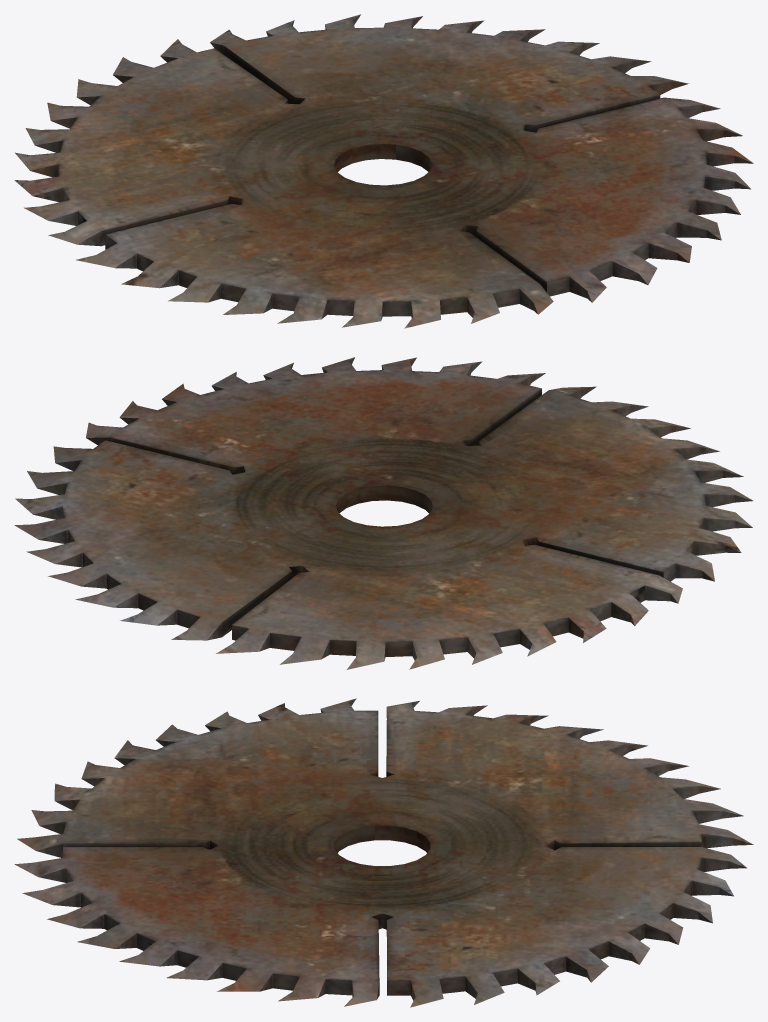
The model's file is sawblade001a.glb.
The picture shows the model from 3 angles, top to bottom: view 1: azimuth 30°, elevation 25°; view 2: azimuth 150°, elevation 25°; view 3: azimuth 270°, elevation 25°; orthographic projection.
Visible parts, largest first — view 1: sawblade001a; view 2: sawblade001a; view 3: sawblade001a.
Boxes of the visible parts, <box> form: sawblade001a: <box>14,14,753,328</box>; sawblade001a: <box>14,357,753,669</box>; sawblade001a: <box>14,698,753,1007</box>.
Bounding box in the file's own units: 0.6871 × 0.0154 × 0.6945.
Materials: 1 (1 with a texture image).
